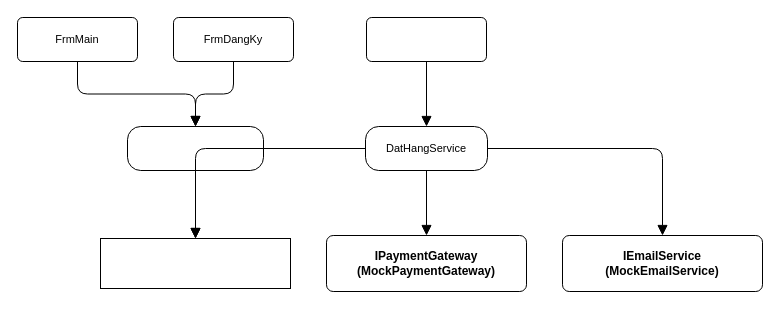
Image size: 780x309. Some labels were removed from this diagram. The box of each missing label's shape, as (x1, y1, x2, y2) in pixels:
FrmThanhToan: (366, 16, 486, 62)
KhachHangService: (126, 126, 264, 170)
SQL Server eShopping: (100, 238, 290, 288)
